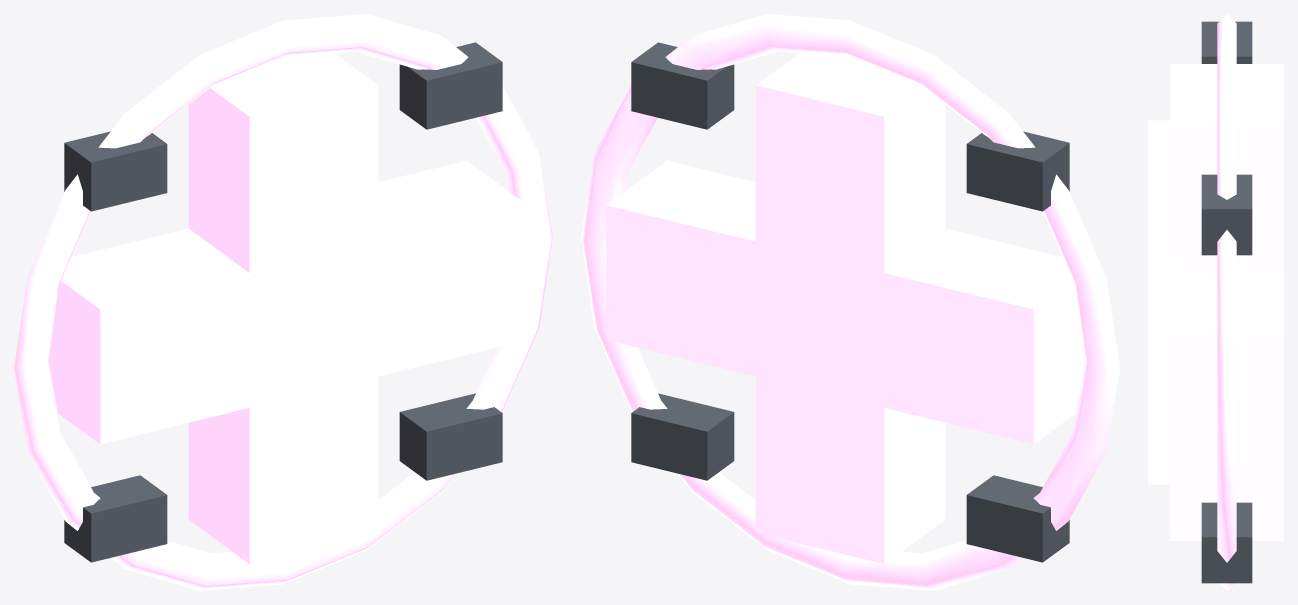
Rendered from pickup-life.glb.
The picture shows the model from 3 angles, left to right: view 1: azimuth 30°, elevation 25°; view 2: azimuth 150°, elevation 25°; view 3: azimuth 270°, elevation 25°; orthographic projection. The views are drawn at different scales.
Visible parts, largest first — view 1: 横臂, 竖臂, 能量环, 横臂芯, 竖臂芯, 角标3, 角标2, 角标0, 角标1; view 2: 横臂, 竖臂, 能量环, 角标3, 角标2, 角标0, 角标1; view 3: 竖臂, 横臂, 能量环, 竖臂芯, 角标0, 角标3, 横臂芯, 角标1.
Part boxes in pixels (left/top/right/bottom): 横臂: left=49, top=160, right=527, bottom=444; 竖臂: left=188, top=53, right=378, bottom=563; 能量环: left=14, top=14, right=552, bottom=590; 横臂芯: left=141, top=252, right=498, bottom=405; 竖臂芯: left=284, top=137, right=354, bottom=521; 角标3: left=399, top=393, right=502, bottom=480; 角标2: left=64, top=475, right=167, bottom=562; 角标0: left=399, top=42, right=502, bottom=129; 角标1: left=64, top=131, right=167, bottom=211; 横臂: left=606, top=160, right=1084, bottom=444; 竖臂: left=755, top=53, right=945, bottom=563; 能量环: left=581, top=14, right=1119, bottom=590; 角标3: left=631, top=393, right=734, bottom=480; 角标2: left=966, top=475, right=1069, bottom=562; 角标0: left=631, top=42, right=734, bottom=129; 角标1: left=966, top=131, right=1069, bottom=211; 竖臂: left=1170, top=64, right=1283, bottom=540; 横臂: left=1170, top=269, right=1283, bottom=462; 能量环: left=1217, top=14, right=1236, bottom=590; 竖臂芯: left=1148, top=120, right=1170, bottom=484; 角标0: left=1201, top=174, right=1252, bottom=255; 角标3: left=1201, top=502, right=1252, bottom=583; 横臂芯: left=1148, top=287, right=1170, bottom=409; 角标1: left=1201, top=21, right=1252, bottom=63.
Bounding box in the file's own units: 1.84 × 1.84 × 0.43.
